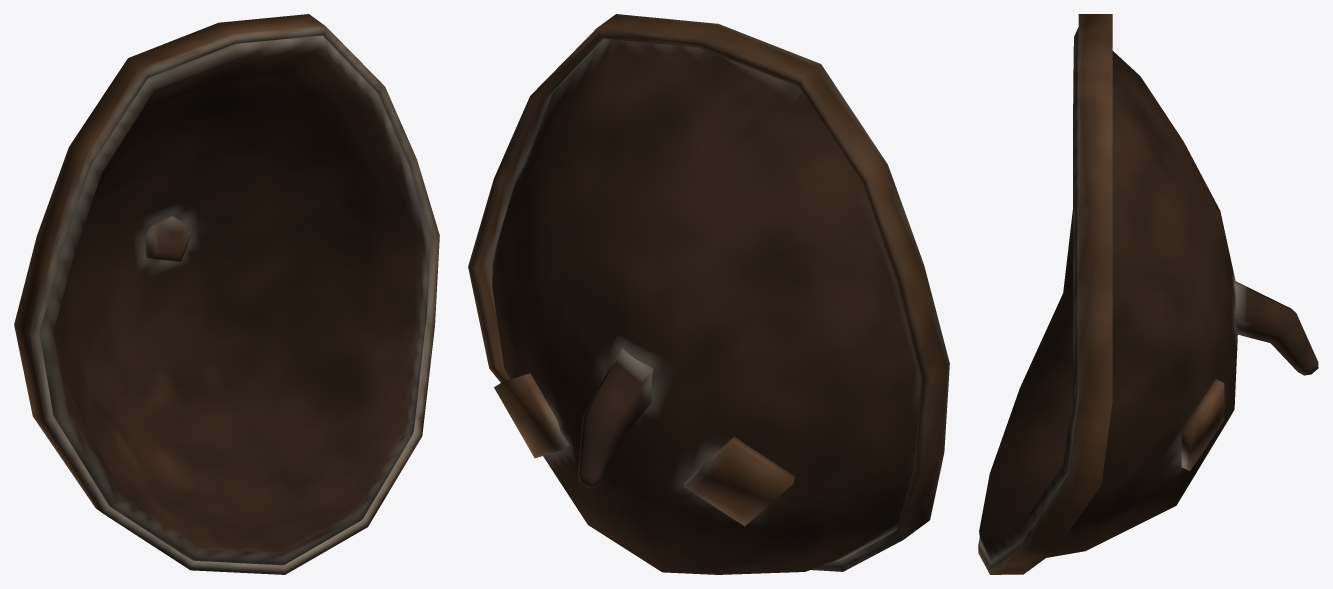
File: Prop_LeatherCap.fbx
3 renders of one model, left to right at view 1: azimuth 30°, elevation 25°; view 2: azimuth 150°, elevation 25°; view 3: azimuth 270°, elevation 25°, orthographic. The views are drawn at different scales.
Visible parts, largest first — view 1: Prop_LeatherCap; view 2: Prop_LeatherCap; view 3: Prop_LeatherCap.
Boxes of the visible parts, x1=… form: Prop_LeatherCap: x1=14, y1=14, x2=439, y2=574; Prop_LeatherCap: x1=468, y1=14, x2=949, y2=574; Prop_LeatherCap: x1=978, y1=14, x2=1318, y2=574.
Bounding box in the file's own units: 0.1946 × 0.229 × 0.1389.
